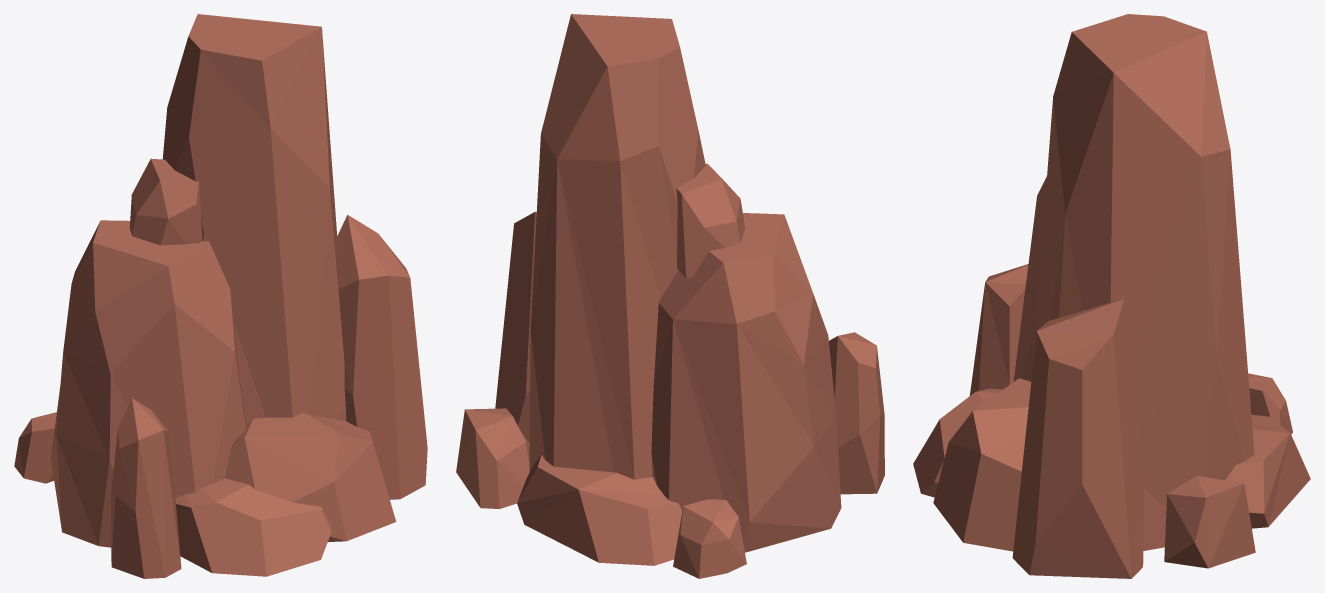
File: rock_011.fbx
3 renders of one model, left to right at view 1: azimuth 30°, elevation 25°; view 2: azimuth 150°, elevation 25°; view 3: azimuth 270°, elevation 25°, orthographic. The views are drawn at different scales.
Visible parts, largest first — view 1: rock_011; view 2: rock_011; view 3: rock_011.
Part boxes in pixels (left/top/right/bottom): rock_011: left=14, top=14, right=427, bottom=578; rock_011: left=456, top=14, right=884, bottom=578; rock_011: left=913, top=14, right=1310, bottom=578.
Size of the model in its own units: 894 by 865 by 1127.
